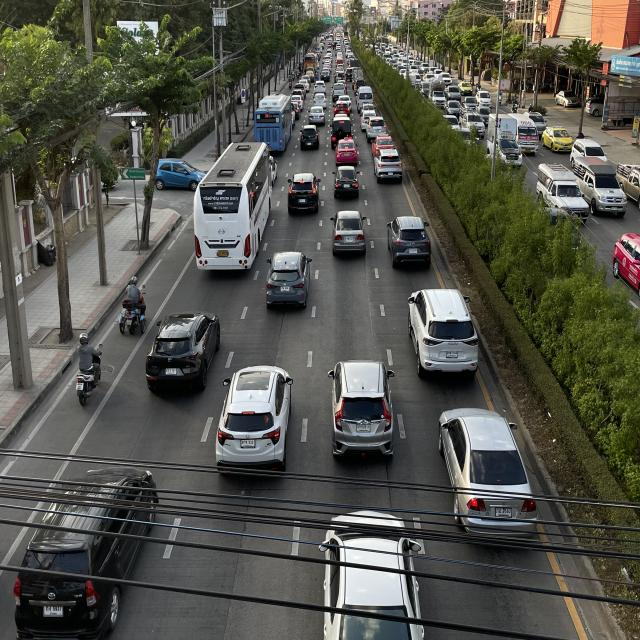bike: (72, 327, 105, 409), (118, 271, 148, 336)
bus: (191, 139, 271, 277), (253, 92, 293, 154)
car: (438, 402, 542, 545), (211, 362, 297, 479), (325, 352, 397, 464), (143, 307, 223, 400)
